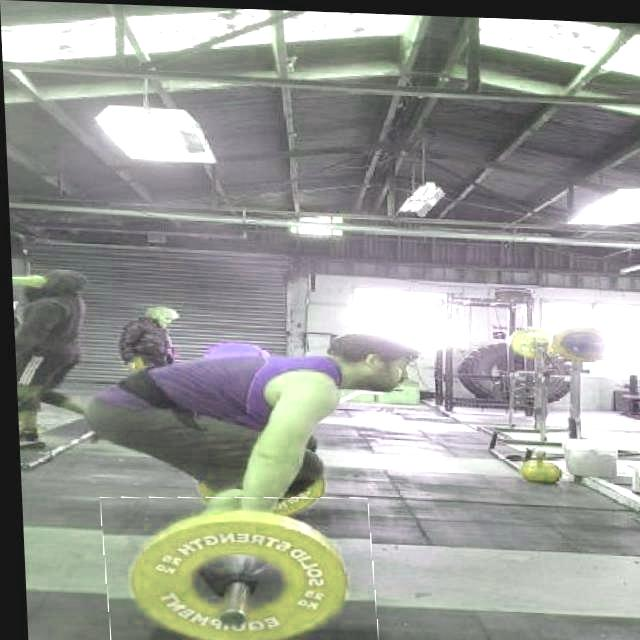barbell: (96, 490, 372, 640)
